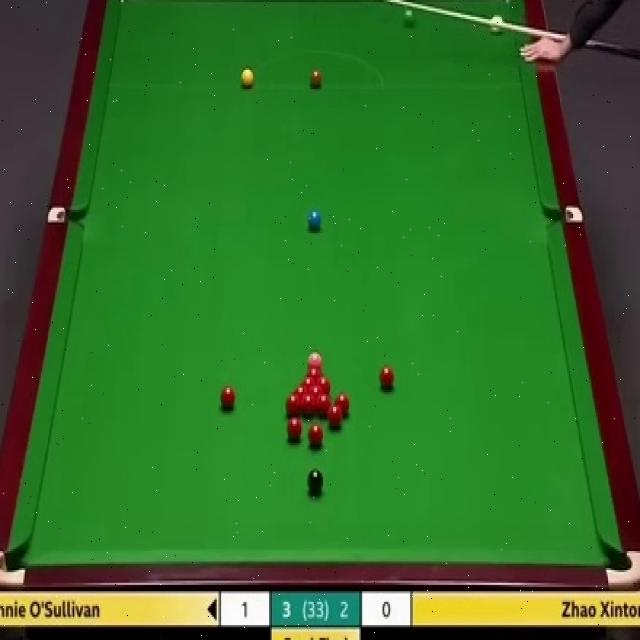black-ball: (308, 468, 324, 496)
blue-ball: (308, 210, 322, 230)
brown-ball: (309, 69, 323, 89)
green-ball: (401, 5, 418, 31)
pink-ball: (307, 349, 322, 364)
red-ball: (218, 386, 236, 412), (286, 417, 304, 441), (308, 423, 324, 448), (379, 366, 395, 391), (316, 393, 332, 418), (284, 393, 300, 416), (335, 393, 349, 417), (327, 406, 342, 428), (301, 392, 315, 415), (317, 375, 331, 392), (304, 364, 322, 374), (308, 384, 324, 394), (300, 375, 316, 385), (292, 385, 308, 394)
white-ball: (490, 11, 504, 37)
yellow-ball: (240, 68, 253, 88)
